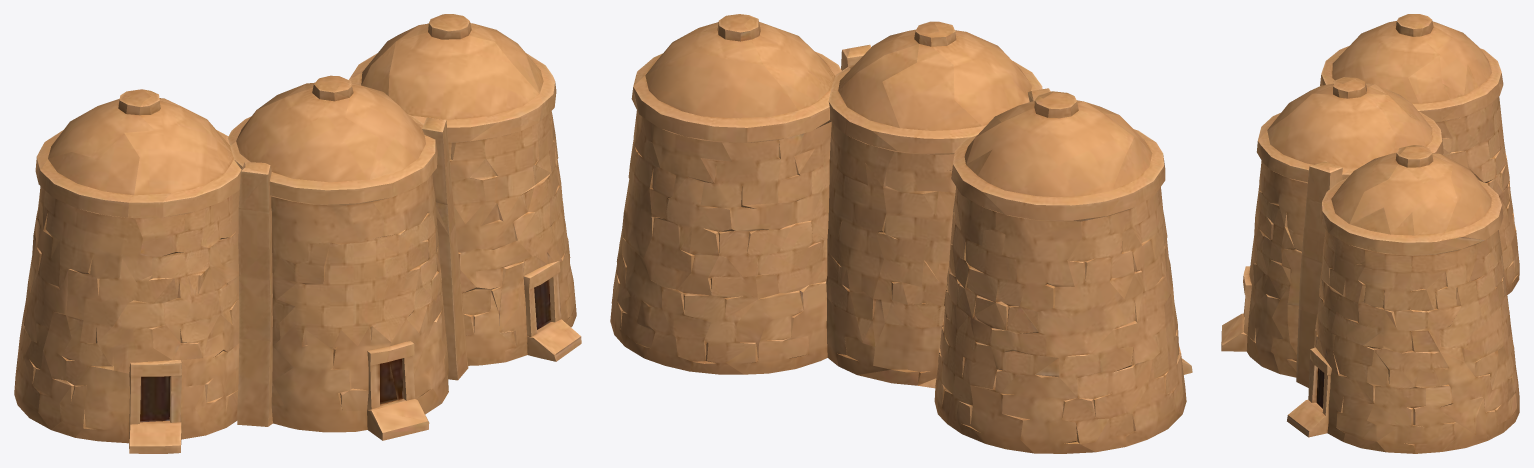
The model's file is egypt-granary.glb.
The picture shows the model from 3 angles, left to right: view 1: azimuth 30°, elevation 25°; view 2: azimuth 150°, elevation 25°; view 3: azimuth 270°, elevation 25°; orthographic projection. The views are drawn at different scales.
Size of the model in its own units: 1.9 by 1.03 by 1.07.
Materials: 1 (1 with a texture image).
